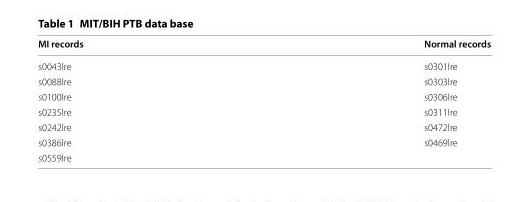table: (37, 36, 490, 163)
table column: (253, 36, 490, 163), (37, 36, 253, 163)
table column header: (37, 36, 490, 54)
table row: (37, 54, 490, 73), (37, 36, 490, 54), (37, 103, 490, 119), (37, 73, 490, 88), (37, 88, 490, 103), (37, 119, 490, 134), (37, 134, 490, 149), (37, 149, 490, 163)
